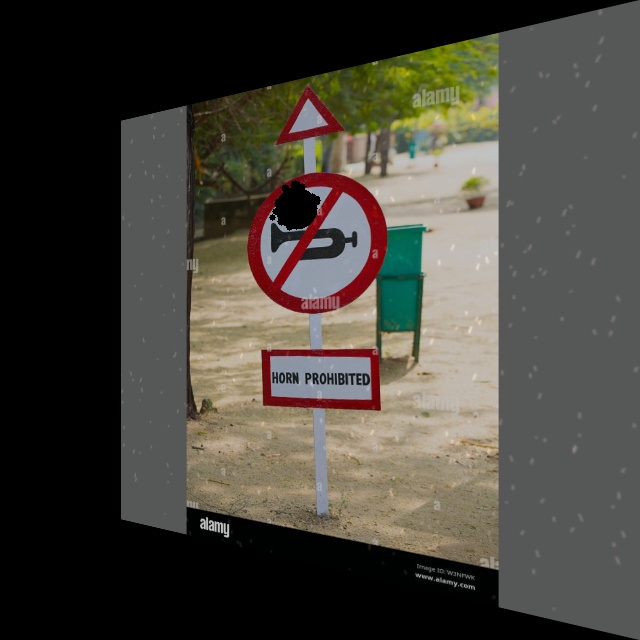Horn_Prohibited: (250, 164, 384, 315)
